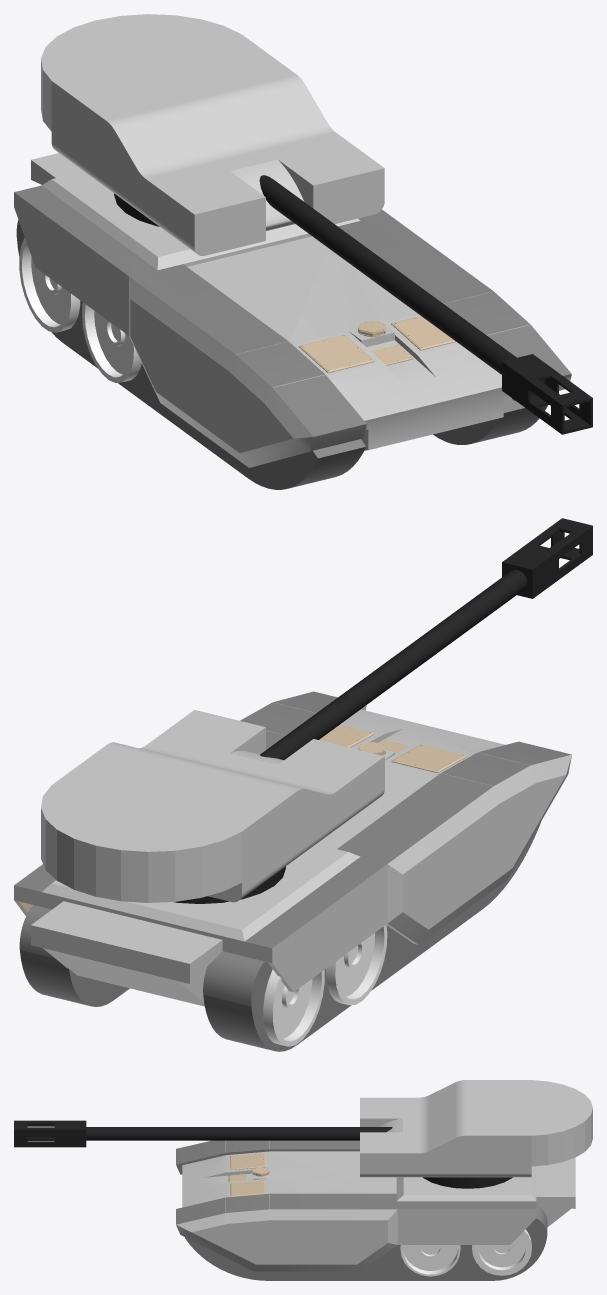
The model's file is tanke01.FBX.
The picture shows the model from 3 angles, top to bottom: view 1: azimuth 30°, elevation 25°; view 2: azimuth 150°, elevation 25°; view 3: azimuth 270°, elevation 25°; orthographic projection. The views are drawn at different scales.
Parts seen in each view (by area): view 1: ID180, ID26, ID364, paoguan, ID20, ID618, ID52, ID486, ID546, ID648, ID624, ID402 (+5 smaller); view 2: ID180, ID26, paoguan, ID364, ID618, ID20, ID486, ID52, ID648, ID624, ID546, ID654 (+4 smaller); view 3: ID180, ID26, paoguan, ID606, ID364, ID486, ID20, ID52, ID510, ID552, ID498, ID46 (+4 smaller).
Boxes of the visible parts, <box> form: ID180: <box>14,153,570,467</box>; ID26: <box>41,14,384,255</box>; ID364: <box>14,185,493,451</box>; paoguan: <box>41,60,196,253</box>; ID20: <box>259,175,516,374</box>; ID618: <box>16,220,365,489</box>; ID52: <box>502,354,592,434</box>; ID486: <box>433,395,547,444</box>; ID546: <box>443,291,530,334</box>; ID648: <box>22,243,68,327</box>; ID624: <box>84,304,130,377</box>; ID402: <box>298,334,374,372</box>; ID180: <box>14,702,571,1006</box>; ID26: <box>41,710,384,851</box>; paoguan: <box>41,756,384,902</box>; ID364: <box>14,730,571,948</box>; ID618: <box>203,821,541,1051</box>; ID20: <box>260,569,527,759</box>; ID486: <box>19,905,129,1006</box>; ID52: <box>502,518,592,598</box>; ID648: <box>275,972,321,1041</box>; ID624: <box>338,927,384,999</box>; ID546: <box>240,702,316,735</box>; ID654: <box>263,969,324,1046</box>; ID180: <box>176,1141,575,1271</box>; ID26: <box>360,1080,592,1153</box>; paoguan: <box>360,1108,592,1177</box>; ID606: <box>192,1220,387,1264</box>; ID364: <box>176,1140,536,1209</box>; ID486: <box>185,1204,547,1280</box>; ID20: <box>86,1127,392,1140</box>; ID52: <box>14,1120,86,1147</box>; ID510: <box>403,1245,458,1274</box>; ID552: <box>176,1197,225,1224</box>; ID498: <box>478,1235,525,1270</box>; ID46: <box>423,1177,512,1188</box>.
Size of the model in its own units: 382 by 311 by 1169.
